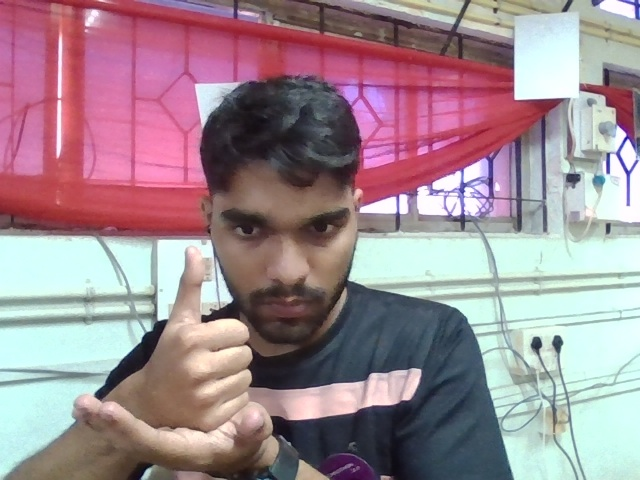help: (65, 234, 309, 479)
